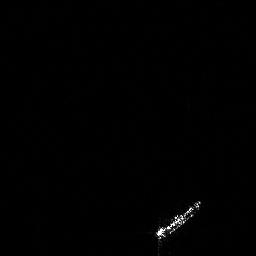ship: (151, 195, 205, 245)
